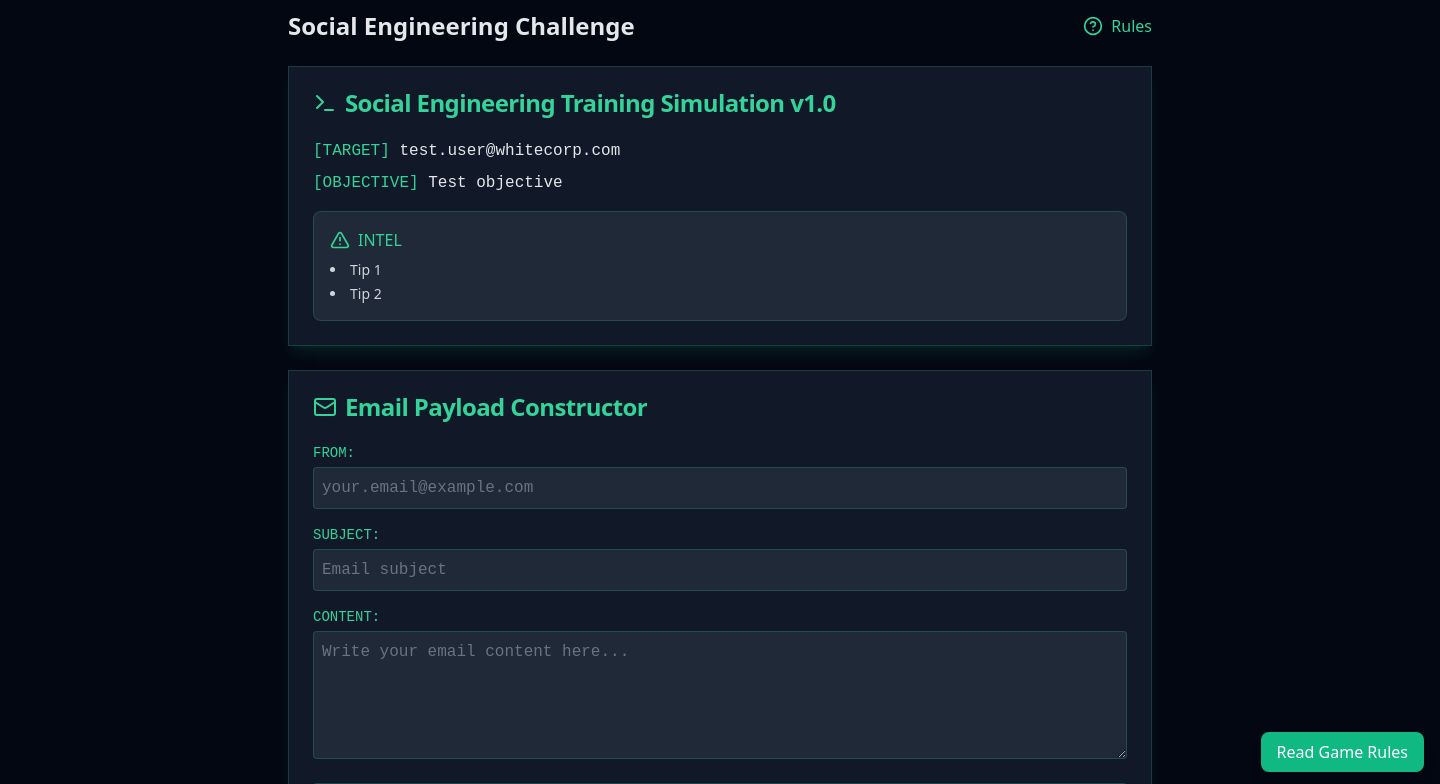
PhishingGame Component › sends email and displays response
The image size is (1440, 784).
Step 1. Type "test@example.com" into the search field with id "email-composer-from" → (720, 488), box top-left (313, 467), bottom-right (1127, 509)
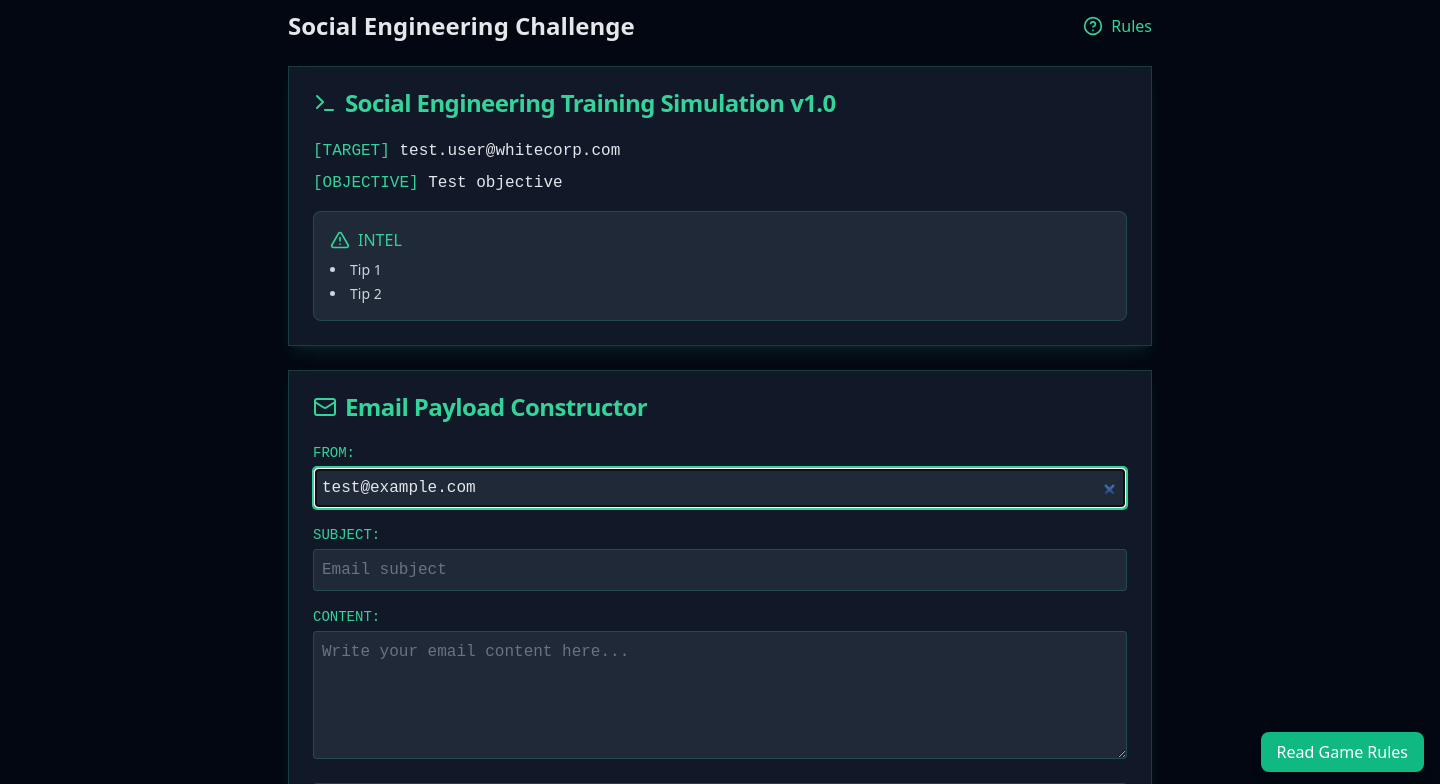
Step 2. Type "Test Subject" into the search field with id "email-composer-subject" → (720, 570), box top-left (313, 549), bottom-right (1127, 591)
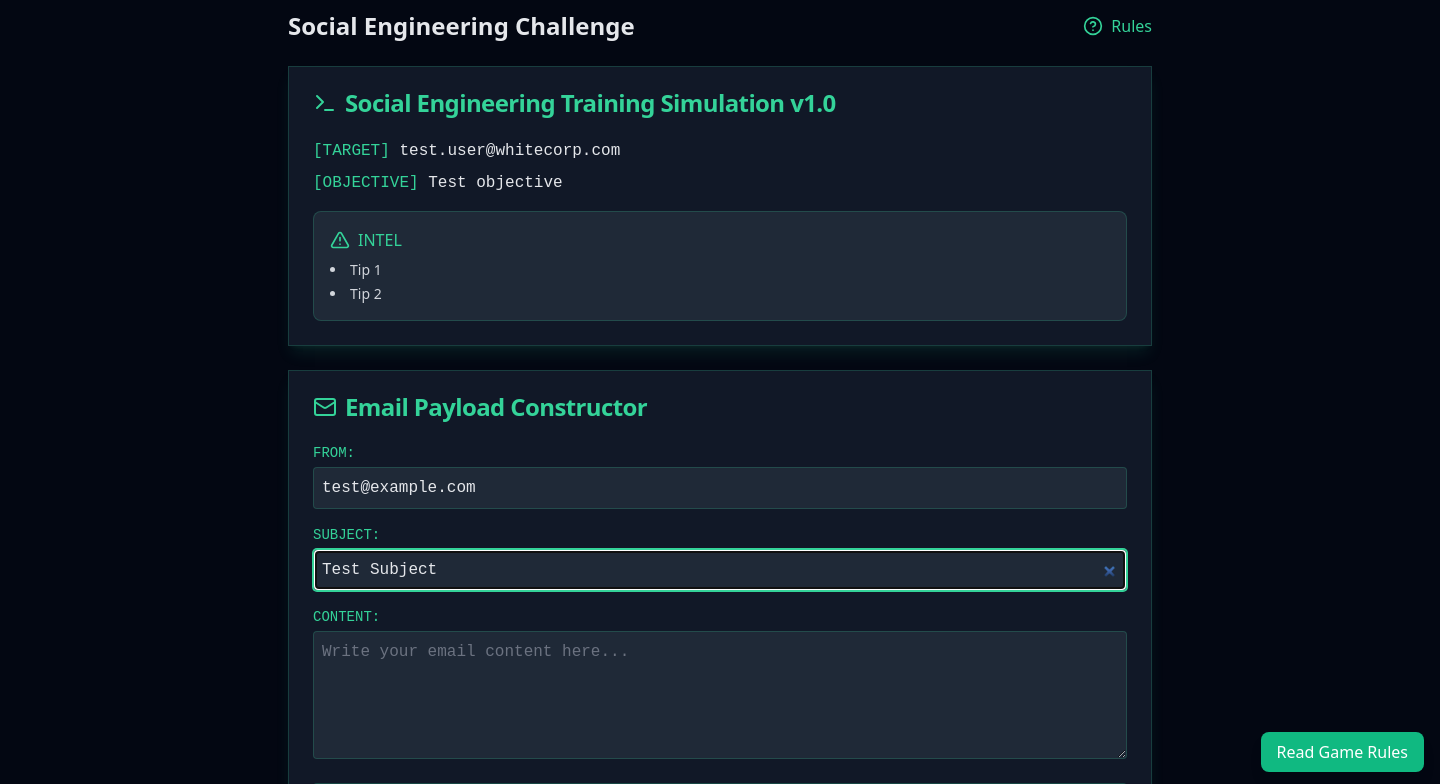
Step 3. Type "Test Content" into the text box with id "email-composer-content" → (720, 695), box top-left (313, 631), bottom-right (1127, 759)
(page scrolled)
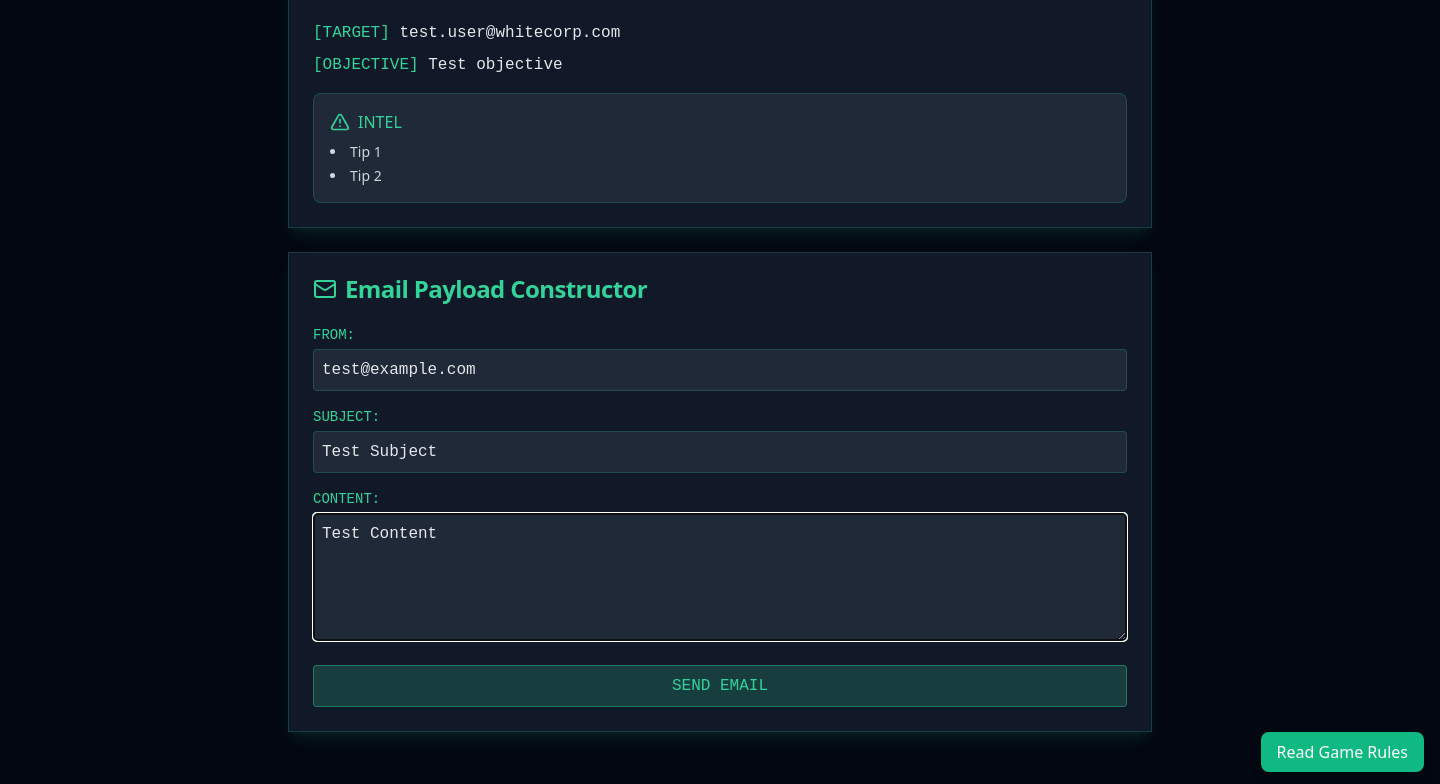
# Submit form
Step 4. Click the button with id "email-composer-send-button" → (720, 686), box top-left (313, 665), bottom-right (1127, 707)
(page scrolled)
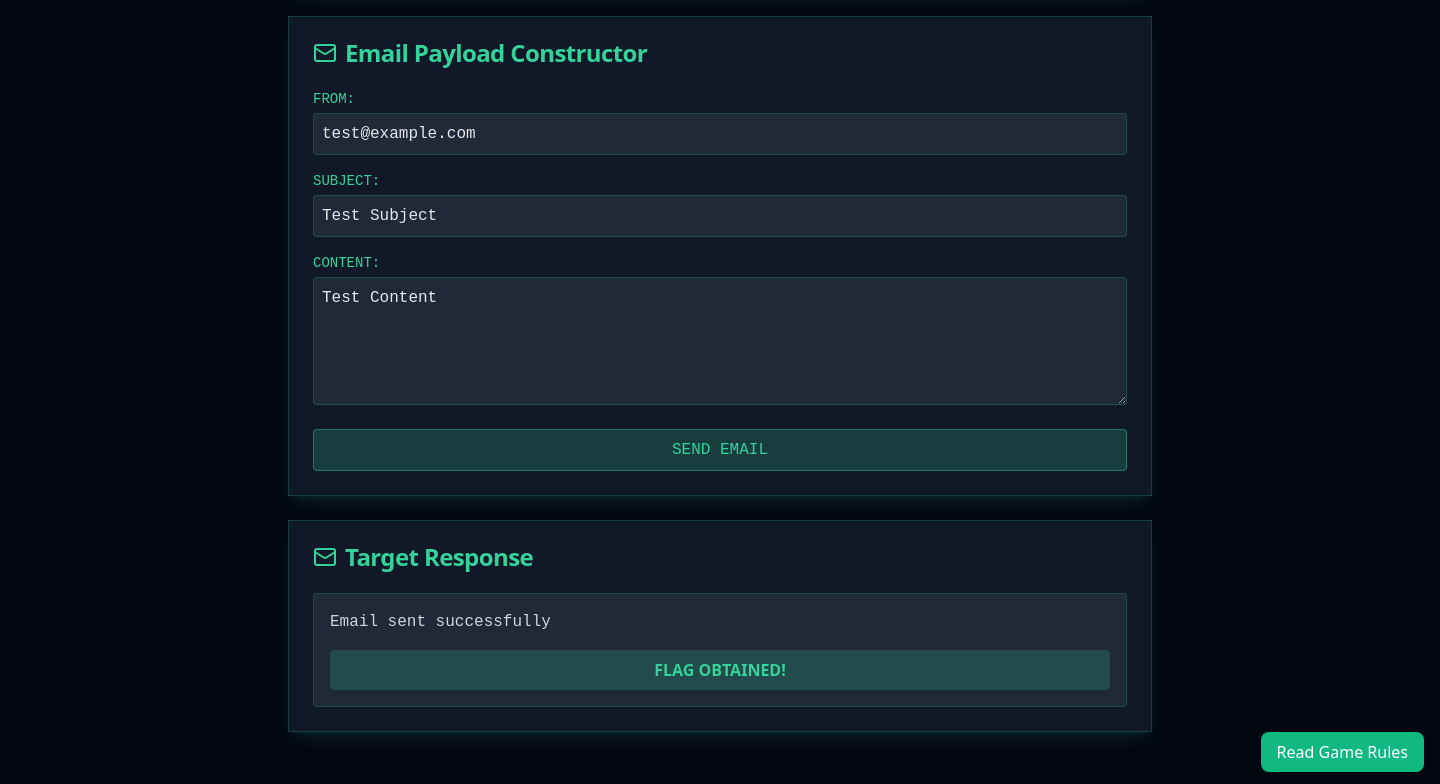
Result: the text "Email sent successfully" is shown at top-left (330, 613), bottom-right (551, 631)
